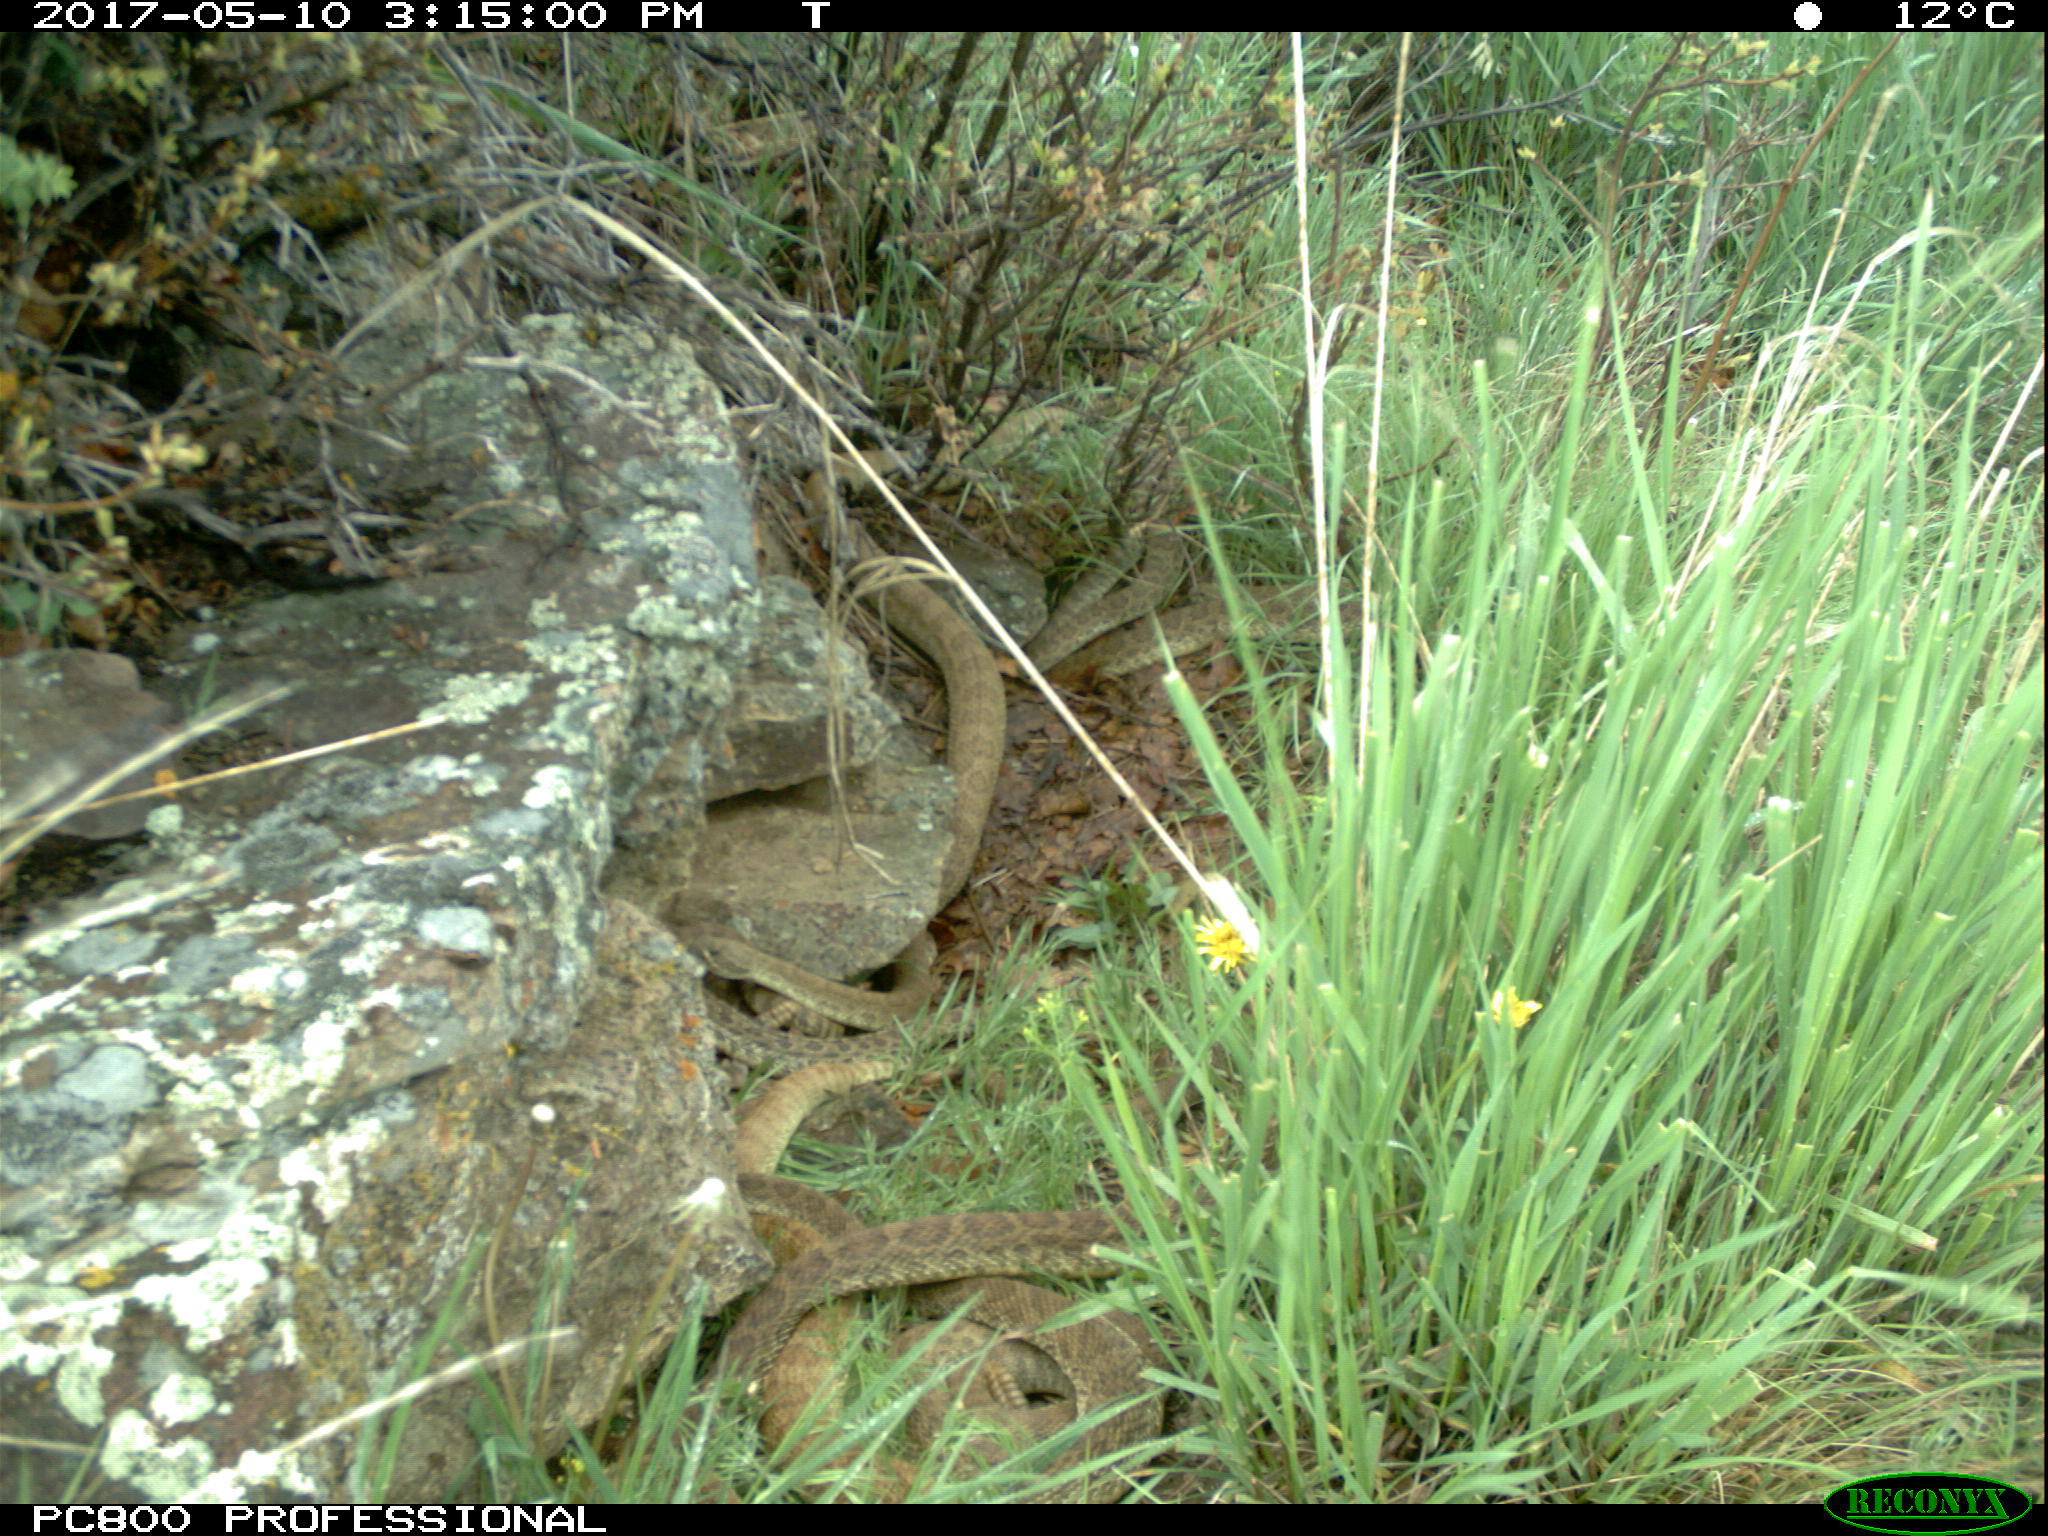snake: (795, 445, 1006, 895), (721, 1294, 1172, 1489), (1019, 523, 1374, 676), (742, 1187, 1156, 1281), (684, 937, 1011, 1050), (695, 1008, 887, 1183)
